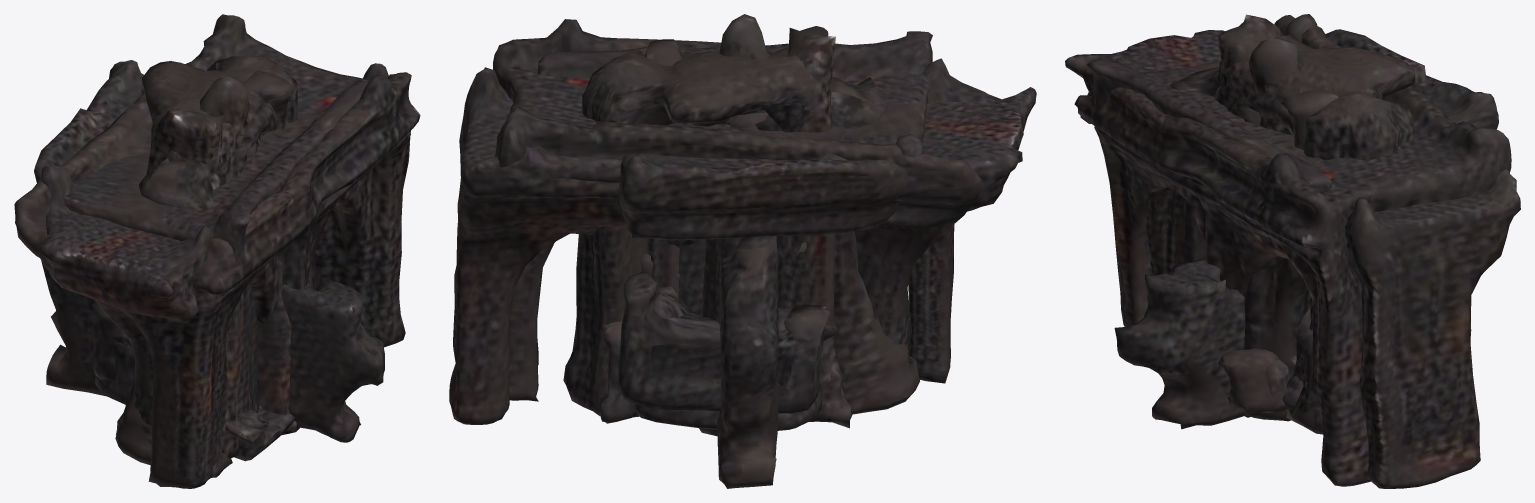
The model's file is terrain-cinder-span-features.glb.
3 renders of one model, left to right at view 1: azimuth 30°, elevation 25°; view 2: azimuth 150°, elevation 25°; view 3: azimuth 270°, elevation 25°, orthographic. The views are drawn at different scales.
Parts seen in each view (by area): view 1: terrain-cinder-span-feature-026, terrain-cinder-span-feature-027, terrain-cinder-span-feature-024, terrain-cinder-span-feature-040, terrain-cinder-span-feature-014, terrain-cinder-span-feature-015, terrain-cinder-span-feature-039, terrain-cinder-span-feature-020, terrain-cinder-span-feature-025, terrain-cinder-span-feature-016, terrain-cinder-span-feature-023; view 2: terrain-cinder-span-feature-024, terrain-cinder-span-feature-026, terrain-cinder-span-feature-014, terrain-cinder-span-feature-027, terrain-cinder-span-feature-025, terrain-cinder-span-feature-040, terrain-cinder-span-feature-015, terrain-cinder-span-feature-023, terrain-cinder-span-feature-039, terrain-cinder-span-feature-037, terrain-cinder-span-feature-016, terrain-cinder-span-feature-020 (+2 smaller); view 3: terrain-cinder-span-feature-026, terrain-cinder-span-feature-024, terrain-cinder-span-feature-014, terrain-cinder-span-feature-040, terrain-cinder-span-feature-027, terrain-cinder-span-feature-015, terrain-cinder-span-feature-025, terrain-cinder-span-feature-016, terrain-cinder-span-feature-039, terrain-cinder-span-feature-023.
Part boxes in pixels (x1,y1,x2,y2): terrain-cinder-span-feature-026: [14, 14, 420, 488]; terrain-cinder-span-feature-027: [34, 60, 367, 477]; terrain-cinder-span-feature-024: [38, 63, 388, 466]; terrain-cinder-span-feature-040: [41, 261, 384, 442]; terrain-cinder-span-feature-014: [115, 56, 315, 465]; terrain-cinder-span-feature-015: [116, 70, 295, 434]; terrain-cinder-span-feature-039: [221, 281, 315, 458]; terrain-cinder-span-feature-020: [256, 259, 299, 435]; terrain-cinder-span-feature-025: [90, 302, 294, 460]; terrain-cinder-span-feature-016: [165, 77, 264, 189]; terrain-cinder-span-feature-023: [95, 342, 281, 461]; terrain-cinder-span-feature-024: [449, 58, 1036, 424]; terrain-cinder-span-feature-026: [493, 19, 981, 401]; terrain-cinder-span-feature-014: [563, 47, 919, 416]; terrain-cinder-span-feature-027: [537, 31, 932, 248]; terrain-cinder-span-feature-025: [618, 272, 837, 413]; terrain-cinder-span-feature-040: [717, 236, 779, 488]; terrain-cinder-span-feature-015: [644, 26, 852, 428]; terrain-cinder-span-feature-023: [633, 382, 822, 430]; terrain-cinder-span-feature-039: [600, 320, 637, 423]; terrain-cinder-span-feature-037: [679, 239, 705, 315]; terrain-cinder-span-feature-016: [719, 14, 833, 95]; terrain-cinder-span-feature-020: [699, 239, 717, 436]; terrain-cinder-span-feature-026: [1074, 15, 1511, 486]; terrain-cinder-span-feature-024: [1065, 14, 1520, 488]; terrain-cinder-span-feature-014: [1170, 34, 1415, 434]; terrain-cinder-span-feature-040: [1114, 258, 1471, 429]; terrain-cinder-span-feature-027: [1087, 29, 1498, 275]; terrain-cinder-span-feature-015: [1218, 14, 1338, 382]; terrain-cinder-span-feature-025: [1218, 348, 1293, 413]; terrain-cinder-span-feature-016: [1214, 37, 1303, 411]; terrain-cinder-span-feature-039: [1173, 190, 1312, 388]; terrain-cinder-span-feature-023: [1261, 359, 1288, 413].
Bounding box in the file's own units: 0.4657 × 0.3539 × 0.4166.
Materials: 1 (1 with a texture image).
